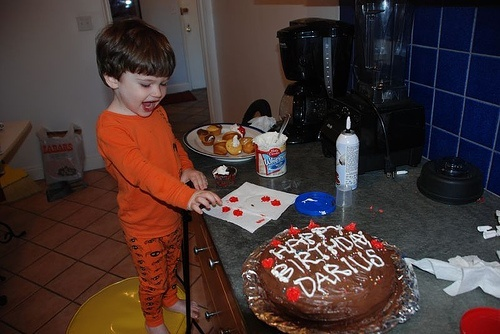head: (97, 19, 176, 119)
person: (95, 19, 214, 334)
